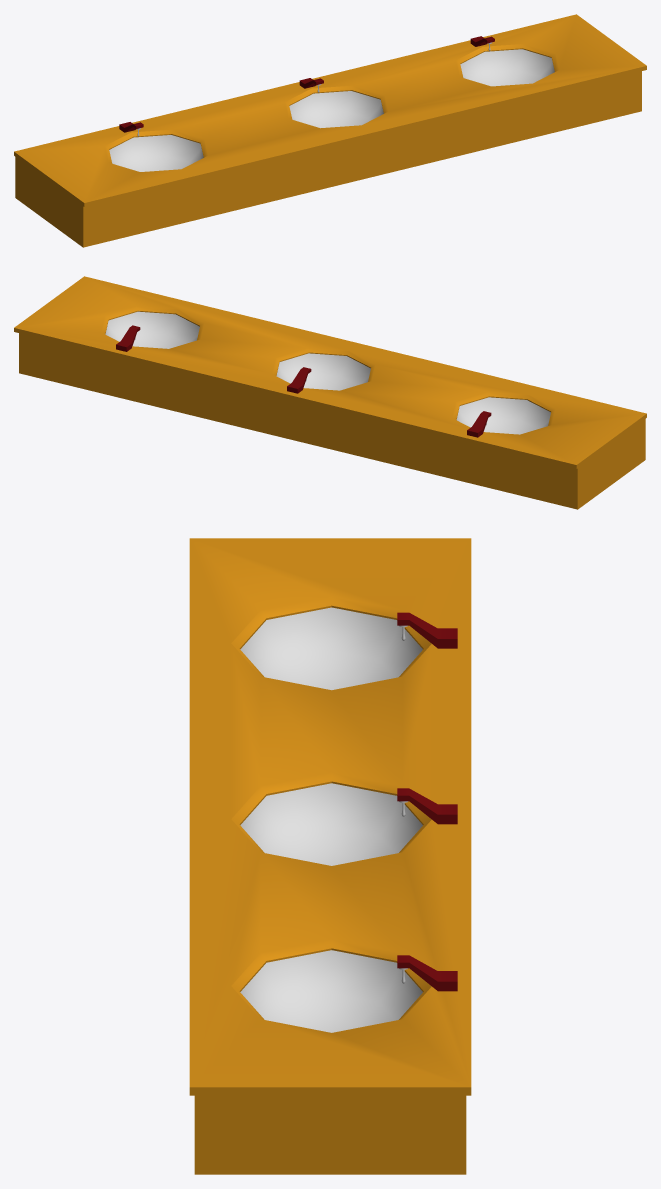
The model's file is Wash_Basin.fbx.
3 renders of one model, top to bottom at view 1: azimuth 30°, elevation 25°; view 2: azimuth 150°, elevation 25°; view 3: azimuth 270°, elevation 25°, orthographic. The views are drawn at different scales.
Visible parts, largest first — view 1: concrete_wash_basin, inter_wash_basin; view 2: concrete_wash_basin, inter_wash_basin; view 3: concrete_wash_basin, inter_wash_basin.
Part boxes in pixels (<box>): concrete_wash_basin: <box>14,14,646,247</box>; inter_wash_basin: <box>109,49,554,171</box>; concrete_wash_basin: <box>14,276,646,509</box>; inter_wash_basin: <box>105,311,550,434</box>; concrete_wash_basin: <box>189,538,471,1174</box>; inter_wash_basin: <box>240,607,422,1032</box>.
Bounding box in the file's own units: 300 × 30 × 65.
